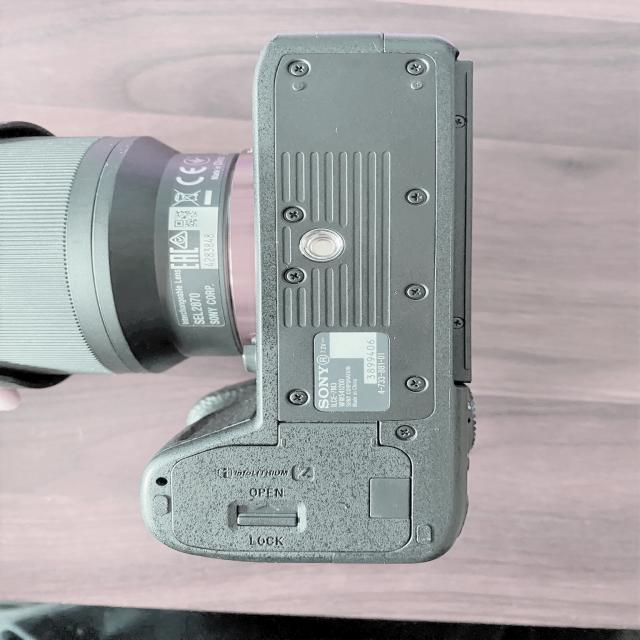PhillipsScrewHead: (406, 190, 428, 207), (403, 376, 427, 391), (288, 60, 308, 77), (405, 60, 427, 75), (284, 207, 304, 223), (285, 268, 305, 284), (406, 284, 426, 300), (288, 390, 308, 406), (395, 425, 414, 441), (451, 316, 464, 332), (454, 114, 466, 130)
